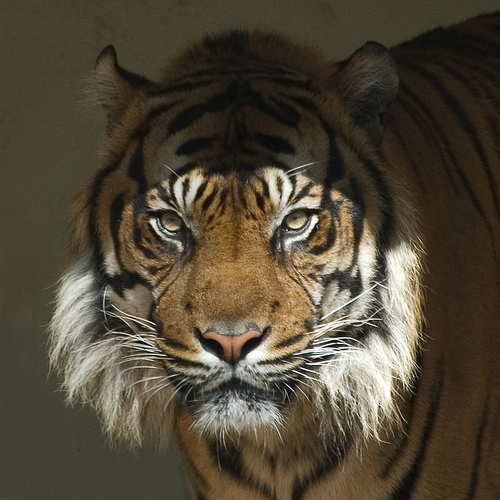Tigre: (76, 36, 431, 435)
